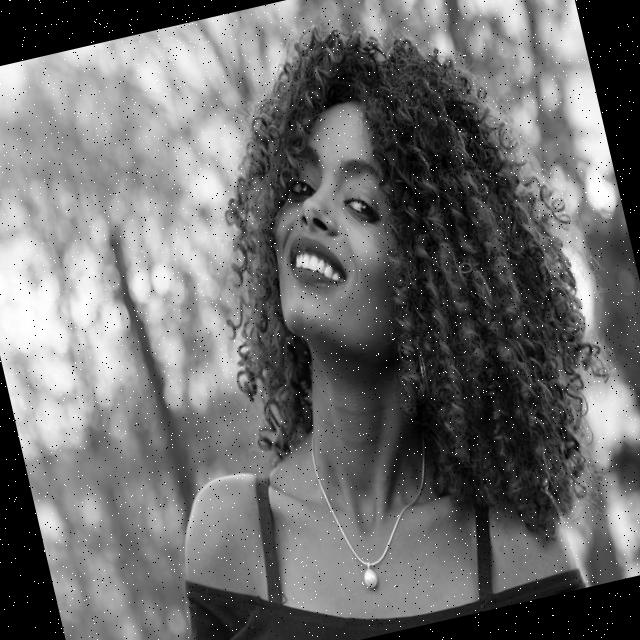Happiness: (232, 88, 436, 384)
